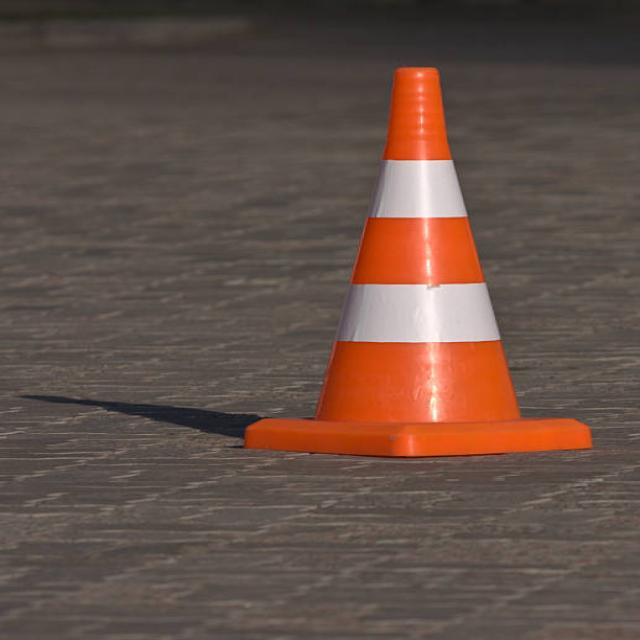Traffic Cone: (242, 19, 596, 504)
